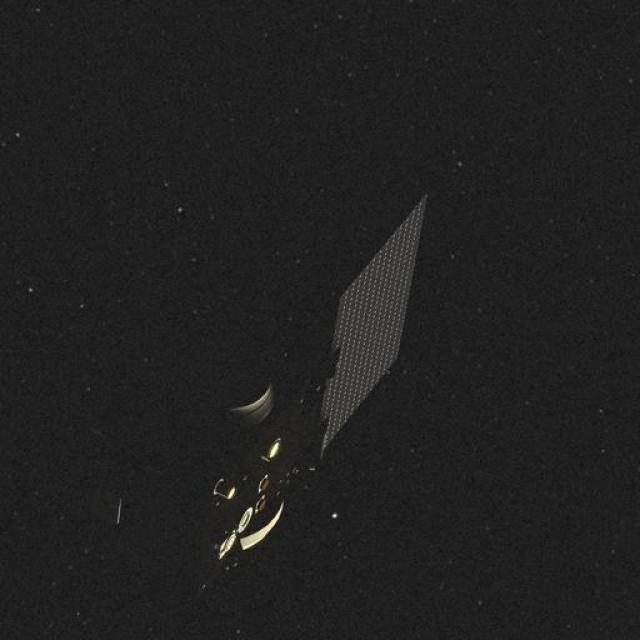proba_3_csc: (108, 192, 438, 574)
